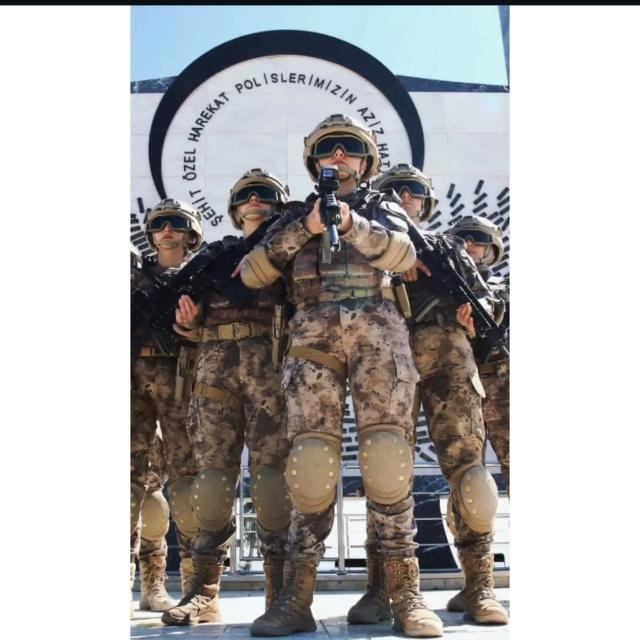poh_personel: (240, 114, 444, 640), (372, 166, 508, 624), (169, 165, 289, 624)
